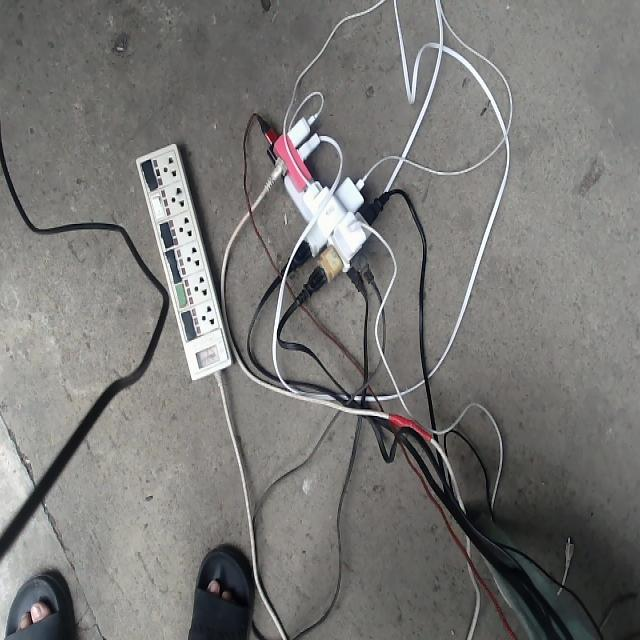-: (251, 111, 387, 297)
